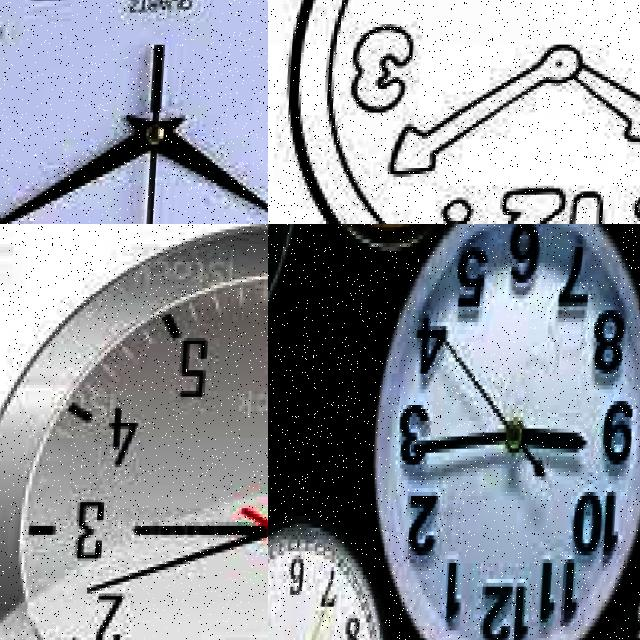Clocks-images: (366, 225, 640, 640), (1, 225, 269, 640), (304, 1, 640, 225), (1, 1, 269, 225), (269, 517, 410, 640)
